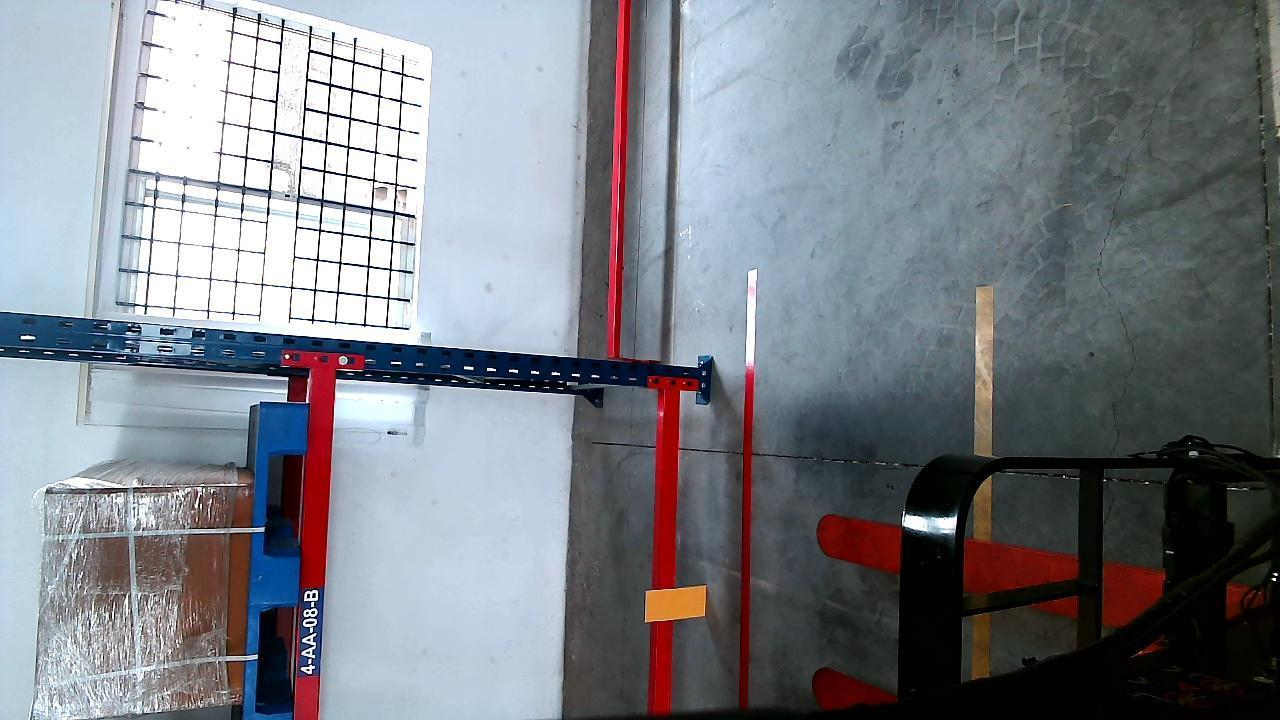h_rack: (297, 371, 335, 720), (651, 395, 681, 713)
orange_strip: (648, 585, 707, 621)
red_line: (733, 265, 757, 720)
small_pallet: (242, 402, 308, 719)
yellow_line: (967, 286, 997, 678)
